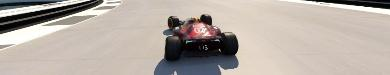Car: (164, 13, 238, 60)
Solid White and black: (0, 0, 102, 35)
